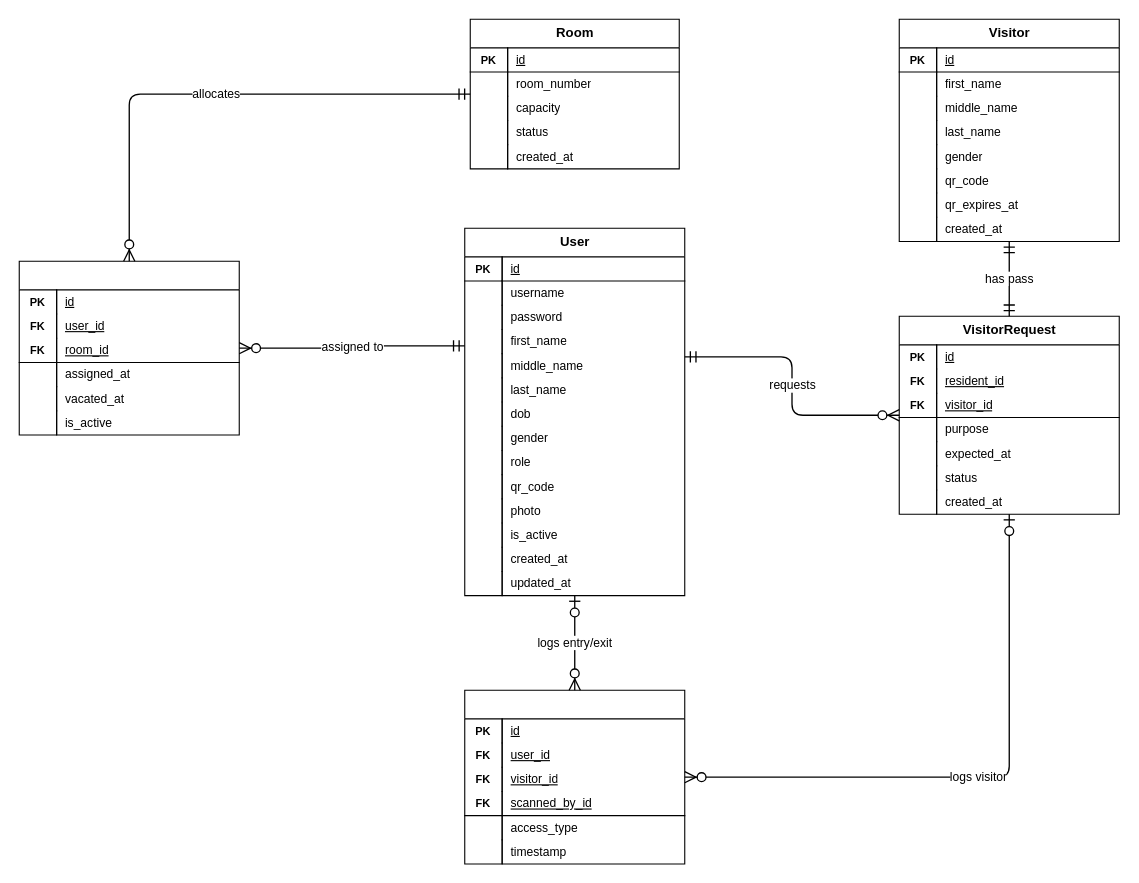
This 1139x883 diagram has some shape labels left out. The shapes that lost their labels are listed below. From the top down, each one's box as (x1, y1, x2, y2) in pixels, then its label:
(18, 260, 239, 435): RoomAssignment
(464, 689, 685, 864): AccessLog
